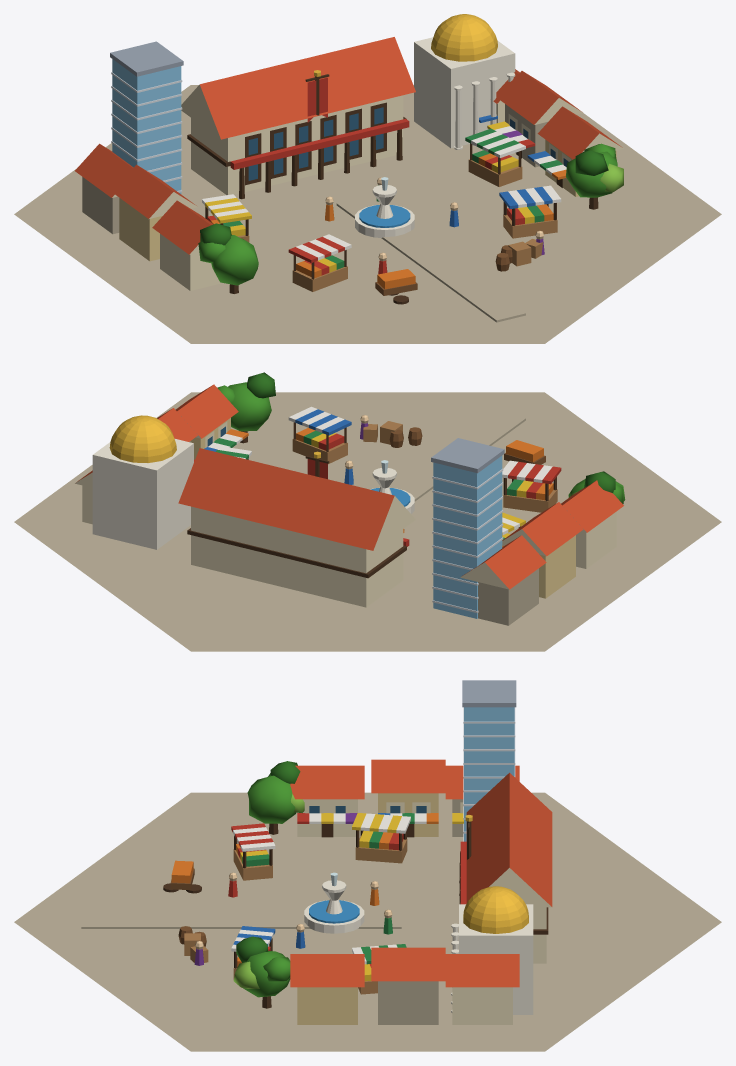
The model's file is district_commercial_hub_3.fbx.
The picture shows the model from 3 angles, top to bottom: view 1: azimuth 30°, elevation 25°; view 2: azimuth 150°, elevation 25°; view 3: azimuth 270°, elevation 25°; orthographic projection.
Parts seen in each view (by area): view 1: district_commercial_hub_3; view 2: district_commercial_hub_3; view 3: district_commercial_hub_3.
Part boxes in pixels (bbox=[...]): district_commercial_hub_3: bbox=[14, 14, 721, 343]; district_commercial_hub_3: bbox=[14, 372, 721, 651]; district_commercial_hub_3: bbox=[14, 680, 721, 1051].
Bounding box in the file's own units: 182 × 49.8 × 210.
